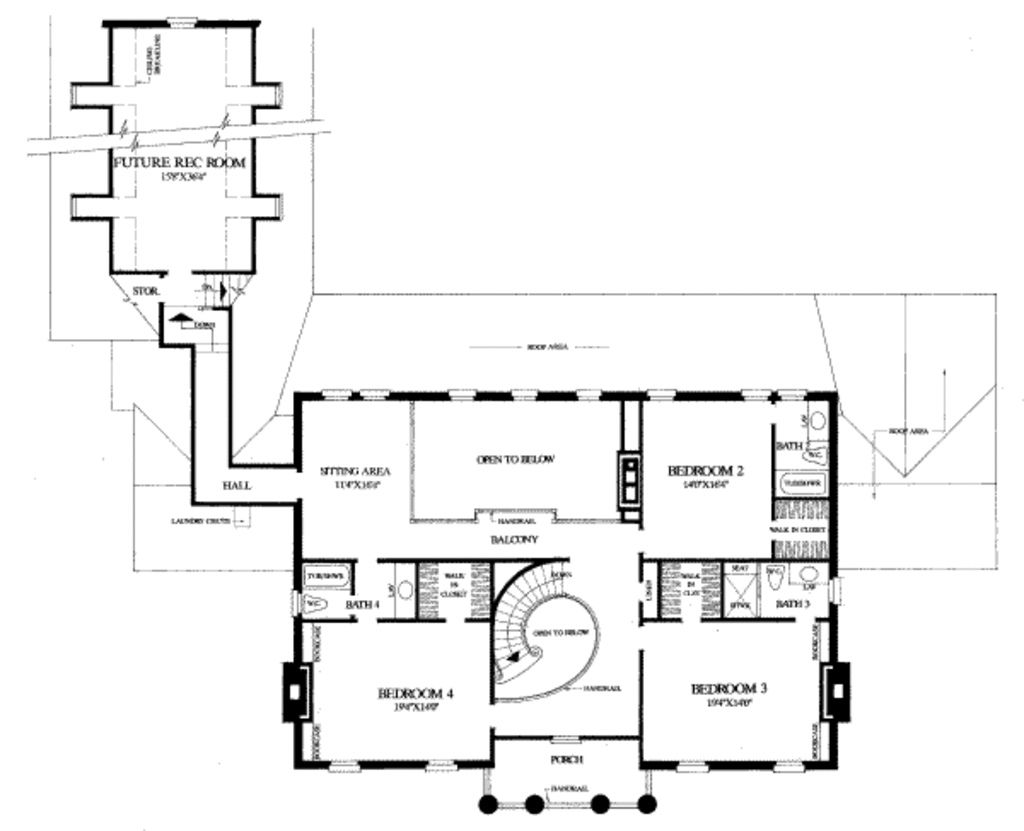large_sink: (763, 562, 792, 594), (296, 592, 328, 619), (798, 444, 831, 465)
small_sink: (395, 564, 417, 620), (804, 398, 831, 439), (789, 561, 833, 586)
stairs: (488, 559, 576, 686)
tub: (771, 467, 834, 500), (296, 556, 352, 590)
window: (739, 389, 808, 406), (318, 387, 394, 402), (419, 754, 459, 776), (325, 758, 368, 778), (675, 759, 712, 781), (639, 387, 683, 404), (444, 384, 485, 402), (767, 760, 806, 776), (504, 390, 542, 406), (547, 733, 584, 745), (575, 388, 605, 400)
